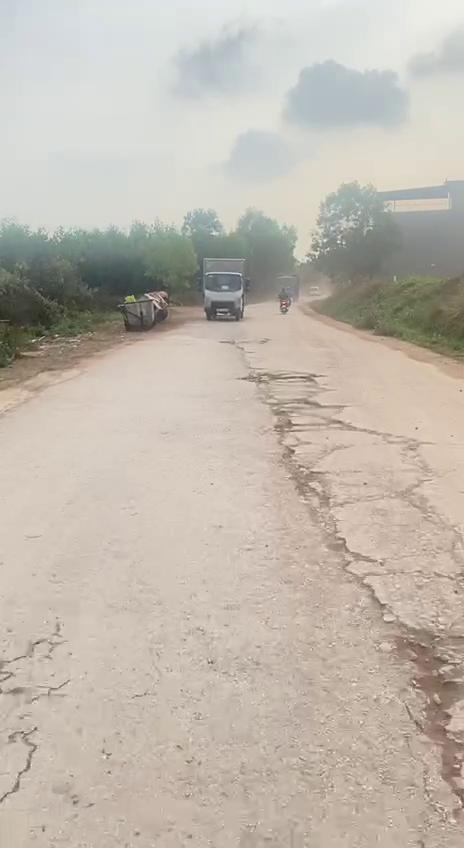pothole: (368, 608, 464, 810)
